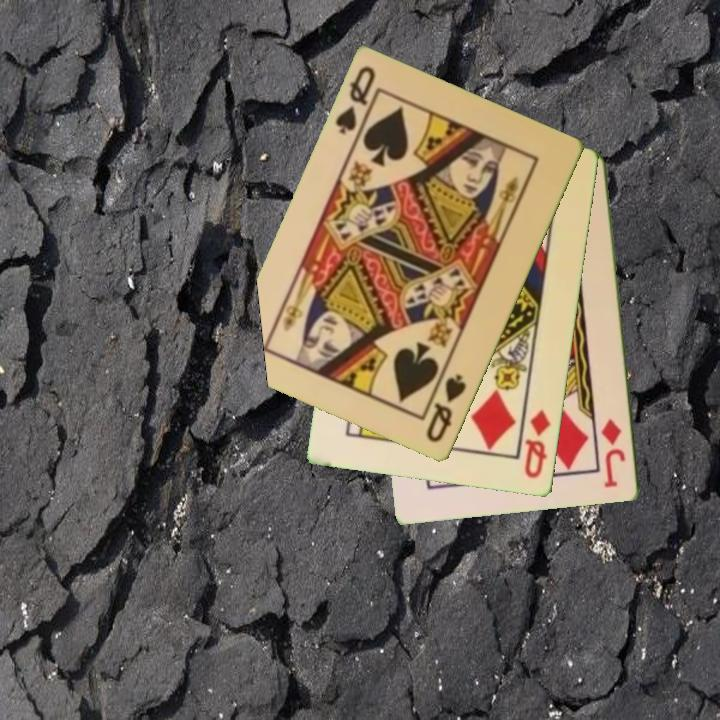Jd: (598, 416, 629, 491)
Qd: (521, 407, 554, 482)
Qs: (331, 63, 379, 138), (423, 370, 470, 446)
